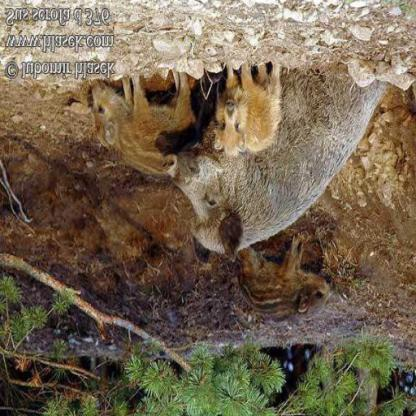boar: (172, 36, 393, 323), (197, 40, 298, 173)
